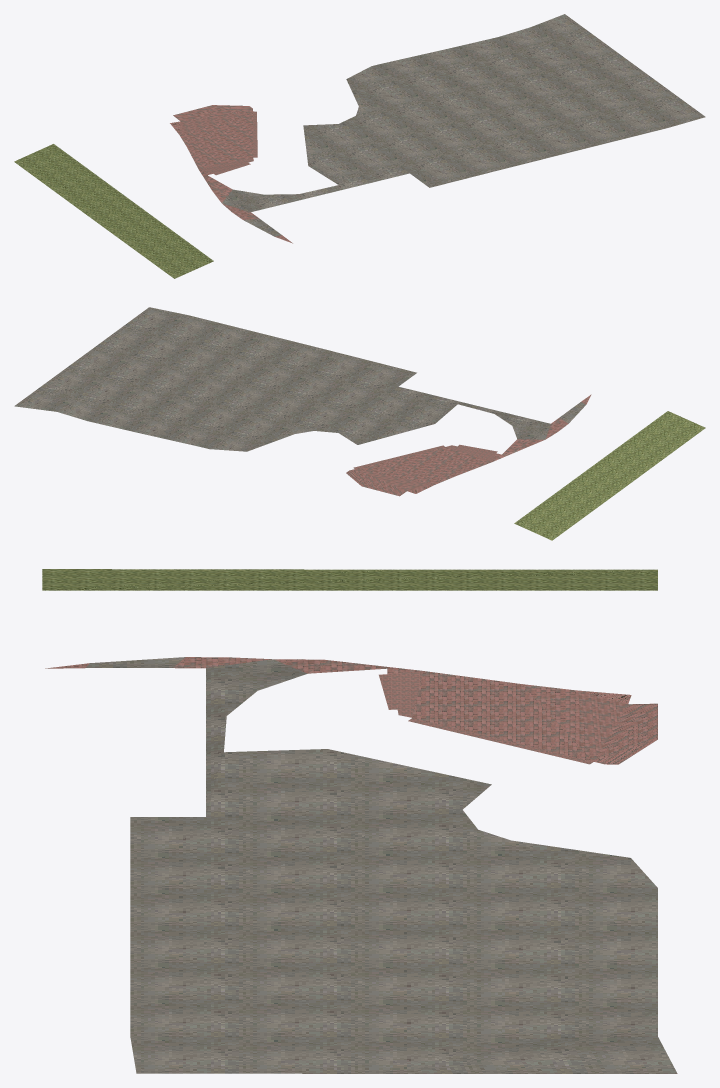
File: lodsairportland04.obj
3 views of the same model, one above another, from view 1: azimuth 30°, elevation 25°; view 2: azimuth 150°, elevation 25°; view 3: azimuth 270°, elevation 25° (orthographic). The views are drawn at different scales.
Parts seen in each view (by area): view 1: lodSairportland04; view 2: lodSairportland04; view 3: lodSairportland04.
Part boxes in pixels (bbox=[...]): lodSairportland04: bbox=[14, 14, 705, 278]; lodSairportland04: bbox=[14, 307, 705, 540]; lodSairportland04: bbox=[42, 569, 677, 1073].
Size of the model in its own units: 280 by 4.12 by 144.
3 materials, 3 textured.
